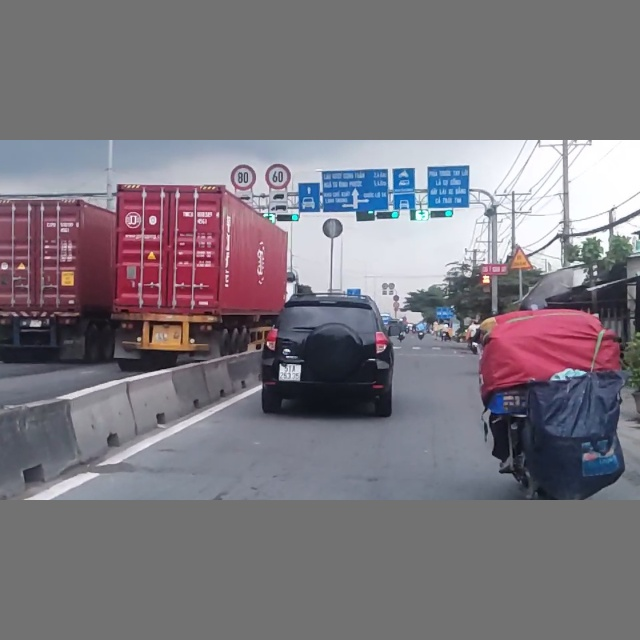P.127*60: (265, 164, 291, 190)
P.127*80: (230, 164, 257, 191)
W.245a: (508, 246, 533, 270)
